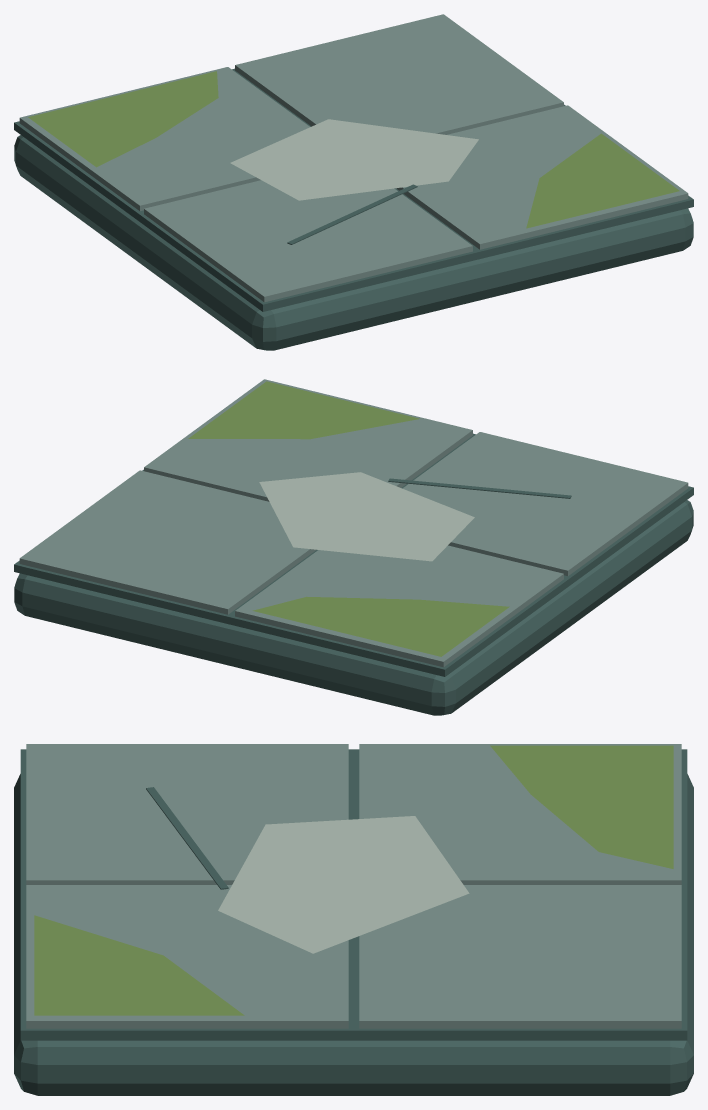
Rendered from sanctuary_floor_variant.glb.
3 views of the same model, one above another, from view 1: azimuth 30°, elevation 25°; view 2: azimuth 150°, elevation 25°; view 3: azimuth 270°, elevation 25° (orthographic). The views are drawn at different scales.
Visible parts, largest first — view 1: sanctuary_floor_skin; view 2: sanctuary_floor_skin; view 3: sanctuary_floor_skin.
Boxes of the visible parts, x1,y1,x2,y2 form: sanctuary_floor_skin: (14, 14, 693, 350); sanctuary_floor_skin: (14, 379, 693, 715); sanctuary_floor_skin: (14, 744, 693, 1095).
Bounding box in the file's own units: 2 × 0.266 × 2.
